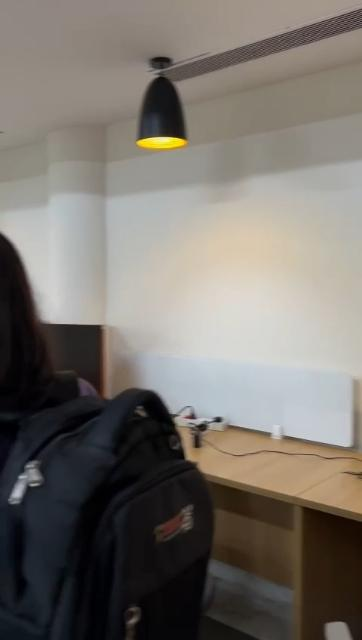moving-obj: (1, 264, 204, 640)
wall: (195, 98, 362, 407), (2, 145, 188, 267)
